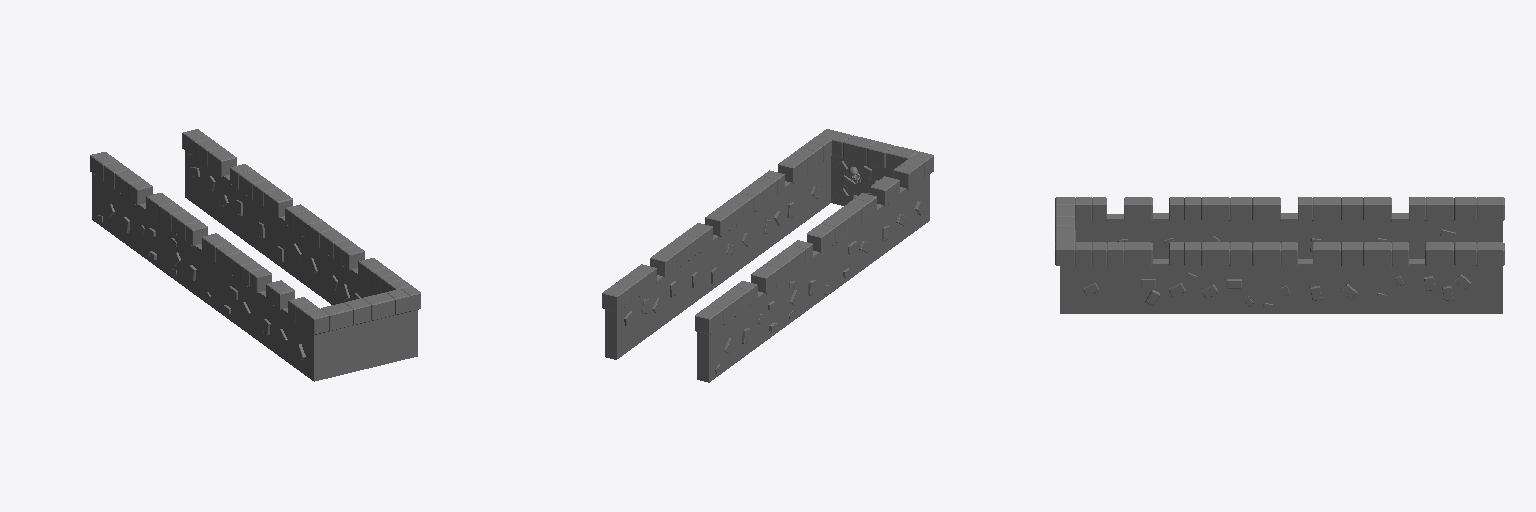
The model's file is Vivienda3.obj.
3 views of the same model, side by side, from view 1: azimuth 30°, elevation 25°; view 2: azimuth 150°, elevation 25°; view 3: azimuth 270°, elevation 25° (orthographic).
Parts seen in each view (by area): view 1: LP; view 2: LP; view 3: LP.
Part boxes in pixels (left/top/right/bottom): LP: left=90, top=129, right=420, bottom=381; LP: left=602, top=129, right=933, bottom=382; LP: left=1055, top=197, right=1504, bottom=313.
Bounding box in the file's own units: 48.61 × 27.13 × 170.